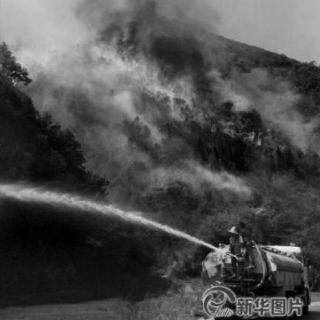Fire: (102, 45, 180, 101), (193, 108, 270, 150)
